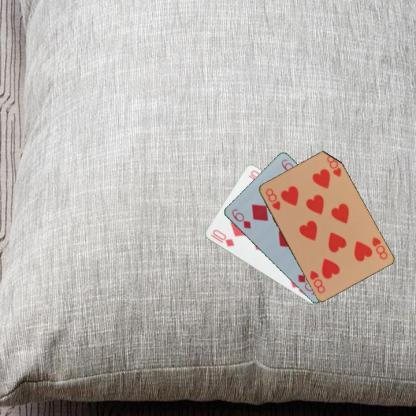10d: (208, 226, 235, 248)
6d: (229, 206, 252, 230)
8h: (262, 186, 282, 212), (369, 234, 388, 261)
